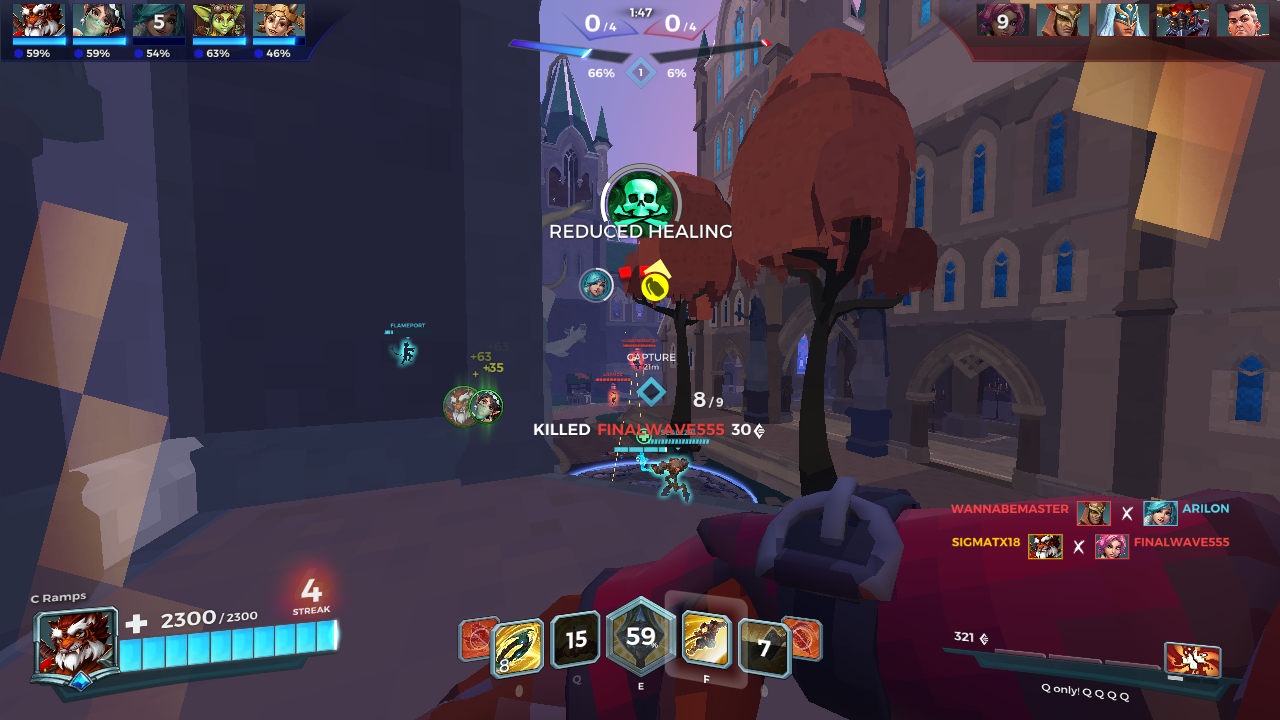model: (609, 388, 618, 405), (634, 356, 641, 372)
